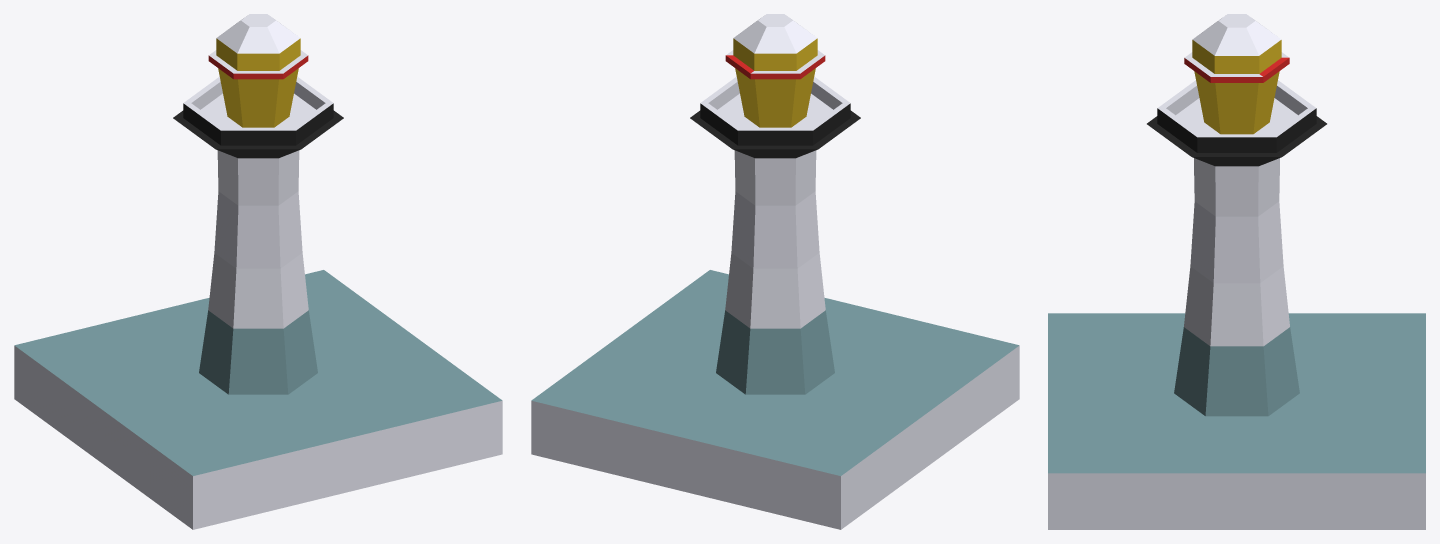
File: lighthouse.glb
The picture shows the model from 3 angles, left to right: view 1: azimuth 30°, elevation 25°; view 2: azimuth 150°, elevation 25°; view 3: azimuth 270°, elevation 25°; orthographic projection. The views are drawn at different scales.
Visible parts, largest first — view 1: Cube; view 2: Cube; view 3: Cube.
Boxes of the visible parts, bbox=[...] form: Cube: bbox=[14, 14, 502, 529]; Cube: bbox=[531, 14, 1019, 529]; Cube: bbox=[1048, 14, 1425, 529].
Bounding box in the file's own units: 5.2 × 6.65 × 5.2.
